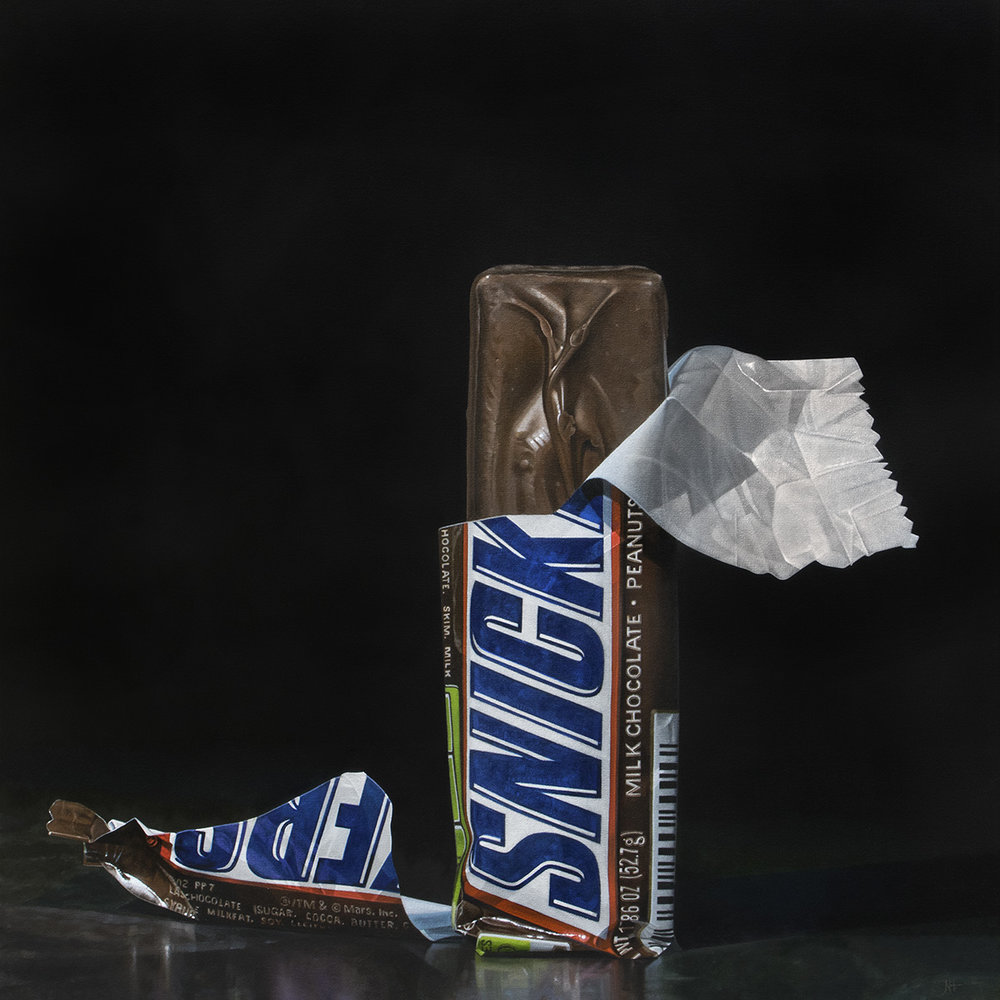snickers: (472, 475, 603, 918), (472, 479, 598, 918), (472, 514, 599, 918)
